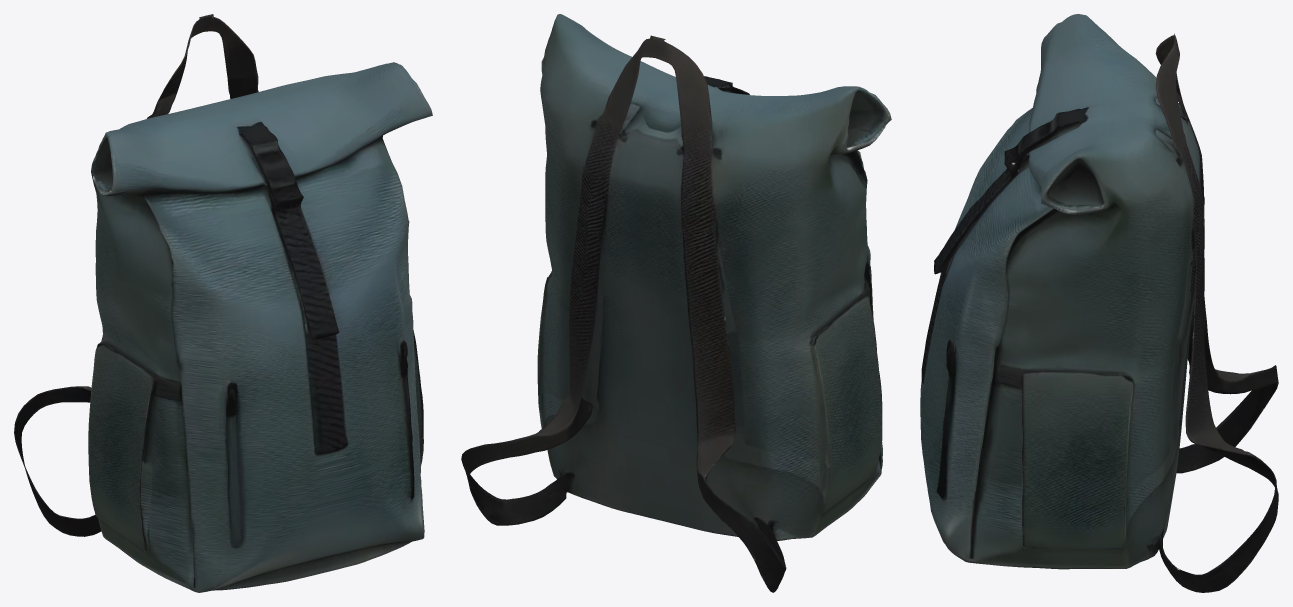
File: bag.glb
3 renders of one model, left to right at view 1: azimuth 30°, elevation 25°; view 2: azimuth 150°, elevation 25°; view 3: azimuth 270°, elevation 25°, orthographic. The views are drawn at different scales.
Parts seen in each view (by area): view 1: model; view 2: model; view 3: model.
Boxes of the visible parts, x1,y1,x2,y2 form: model: (14, 14, 432, 592); model: (461, 14, 891, 592); model: (920, 14, 1278, 592).
Bounding box in the file's own units: 1.28 × 1.9 × 1.25.
Materials: 1 (1 with a texture image).
